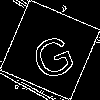G: (25, 25, 78, 82)
